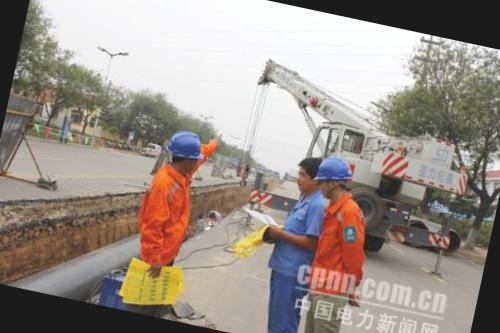no_helmet: (292, 154, 330, 200)
person: (118, 123, 225, 322), (284, 156, 390, 333), (231, 149, 332, 333)
